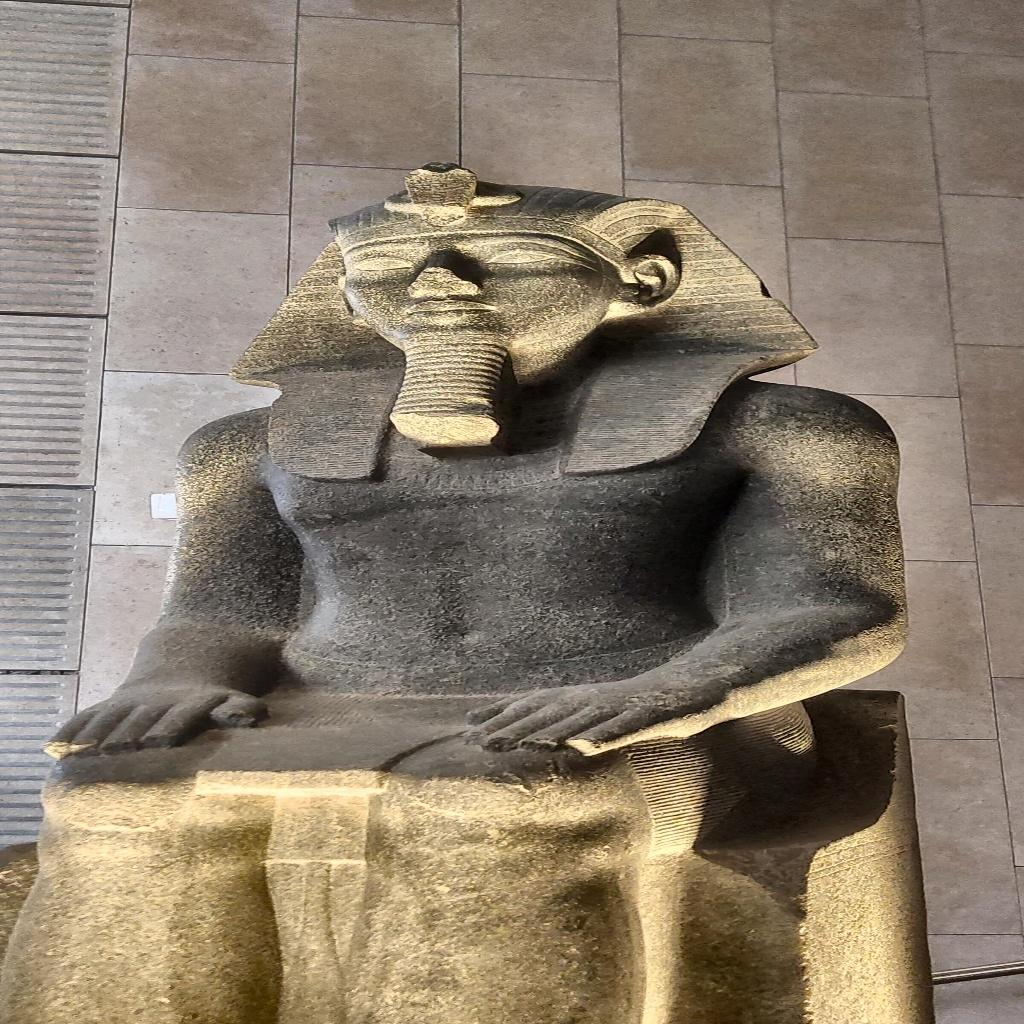Seated Statue of Amenhotep III: (12, 159, 927, 1019)
